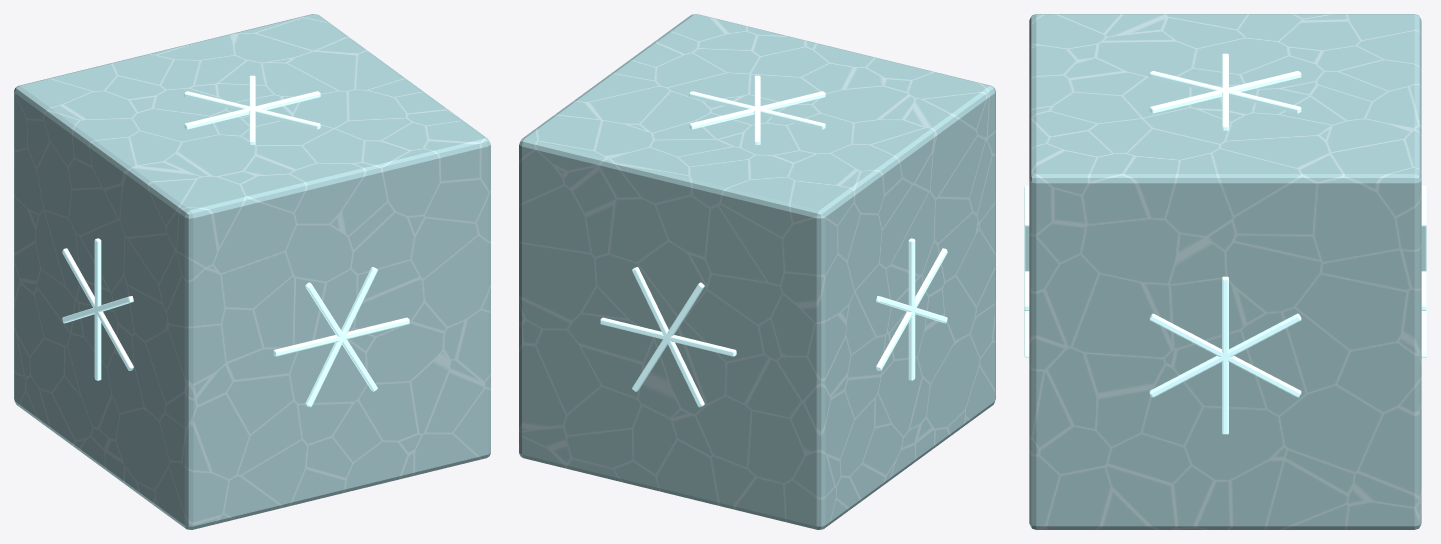
File: block-ice.glb
3 renders of one model, left to right at view 1: azimuth 30°, elevation 25°; view 2: azimuth 150°, elevation 25°; view 3: azimuth 270°, elevation 25°, orthographic. The views are drawn at different scales.
Visible parts, largest first — view 1: ice-core, frost-line.016, frost-line.009, frost-line.015, frost-line.002, frost-line.010, frost-line, frost-line.017; view 2: ice-core, frost-line.014, frost-line.009, frost-line.012, frost-line.011, frost-line.001, frost-line, frost-line.013; view 3: ice-core, frost-line.007, frost-line.008, frost-line.002, frost-line.001, frost-line.006, frost-line, frost-line.013, frost-line.017.
Boxes of the visible parts, <box> form: ice-core: <box>14,14,490,529</box>; frost-line.016: <box>305,267,377,407</box>; frost-line.009: <box>94,238,101,380</box>; frost-line.015: <box>273,317,409,356</box>; frost-line.002: <box>184,91,320,129</box>; frost-line.010: <box>62,248,133,370</box>; frost-line: <box>184,91,320,129</box>; frost-line.017: <box>305,282,377,391</box>; ice-core: <box>519,14,995,529</box>; frost-line.014: <box>632,267,704,407</box>; frost-line.009: <box>908,238,915,380</box>; frost-line.012: <box>600,317,736,356</box>; frost-line.011: <box>876,248,947,370</box>; frost-line.001: <box>689,91,825,129</box>; frost-line: <box>689,91,825,129</box>; frost-line.013: <box>632,282,704,391</box>; ice-core: <box>1029,14,1421,529</box>; frost-line.007: <box>1149,313,1301,397</box>; frost-line.008: <box>1149,313,1301,397</box>; frost-line.002: <box>1149,71,1301,113</box>; frost-line.001: <box>1149,71,1301,113</box>; frost-line.006: <box>1222,276,1228,434</box>; frost-line: <box>1222,53,1228,130</box>; frost-line.013: <box>1421,185,1426,358</box>; frost-line.017: <box>1024,185,1029,358</box>.
Bounding box in the file's own units: 1.03 × 1.03 × 1.03.
Materials: 2 (1 with a texture image).
